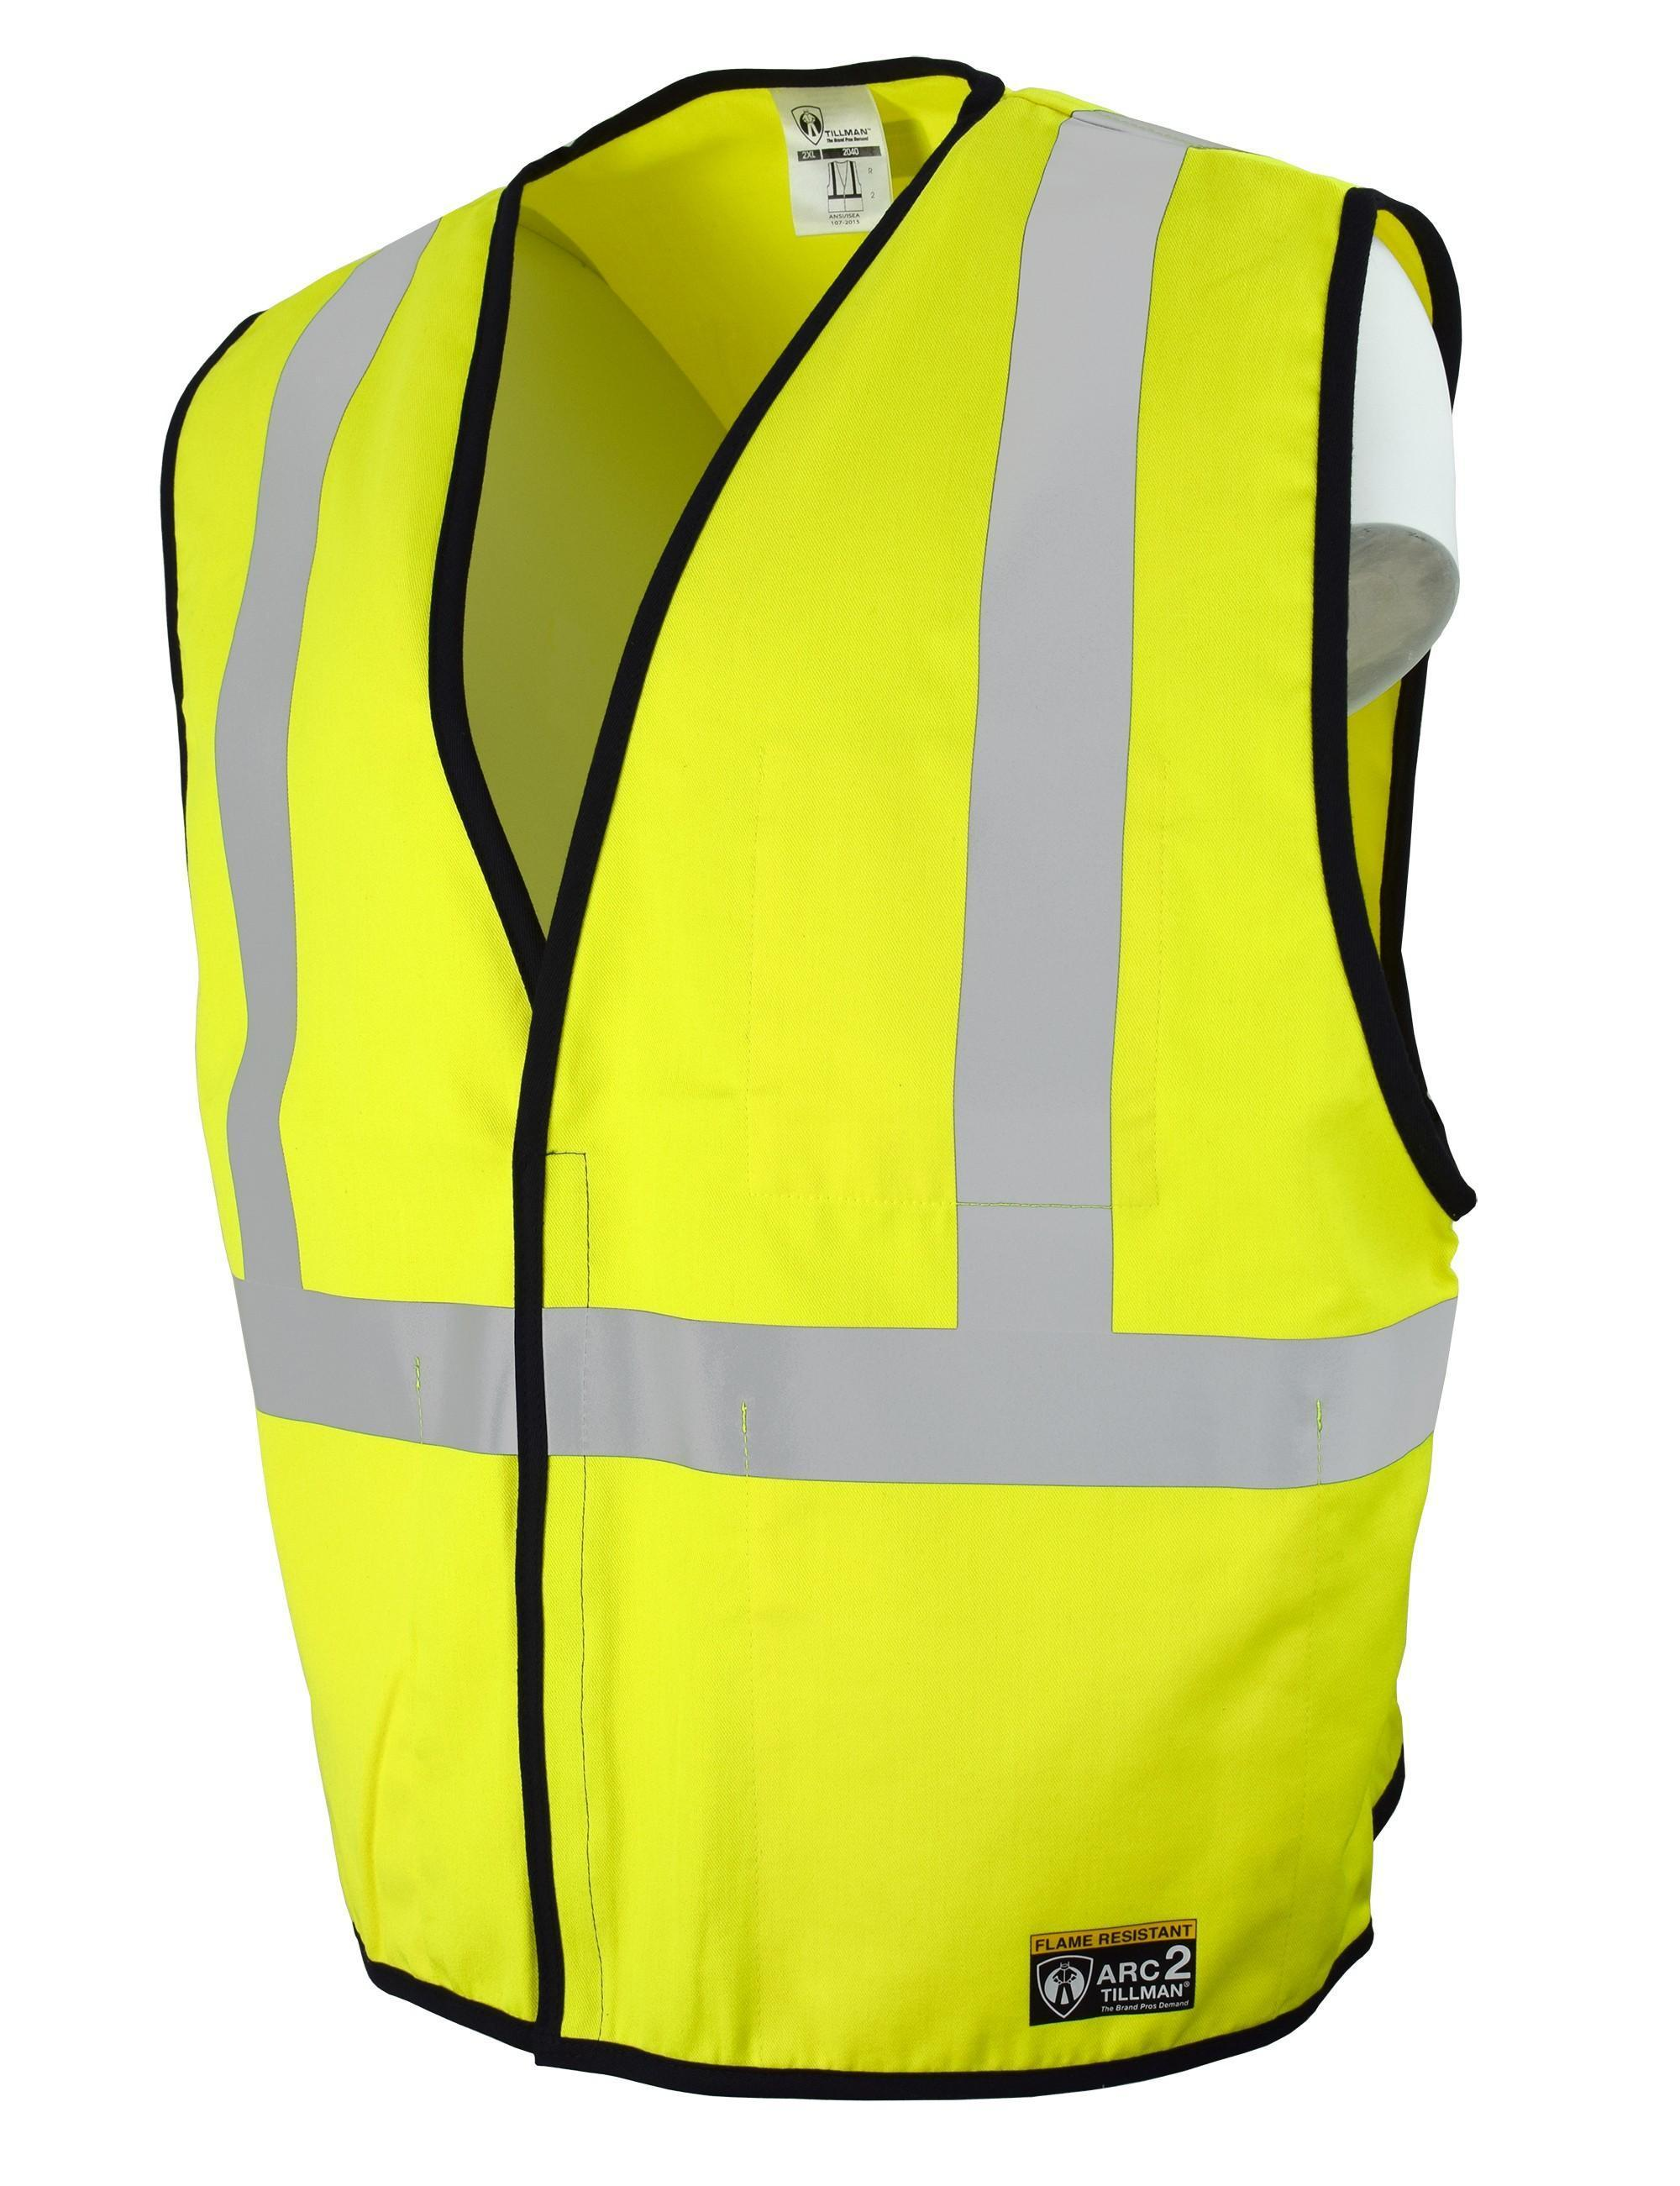vest: (157, 63, 1484, 2102)
